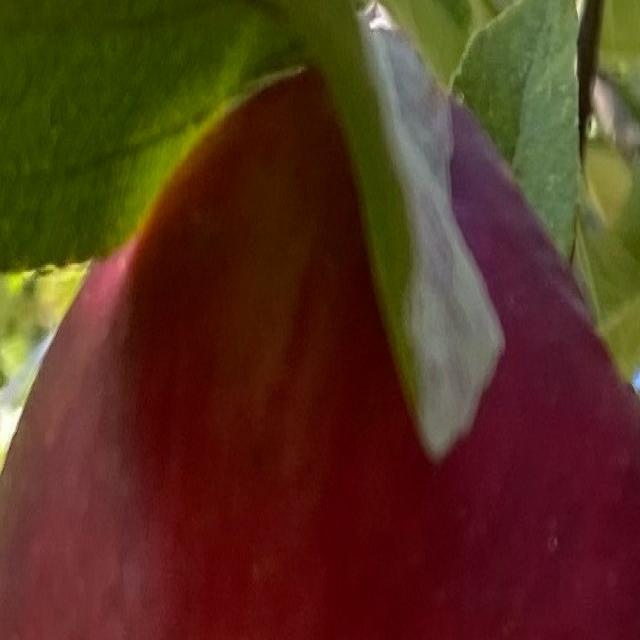Apples: (0, 62, 639, 638)
